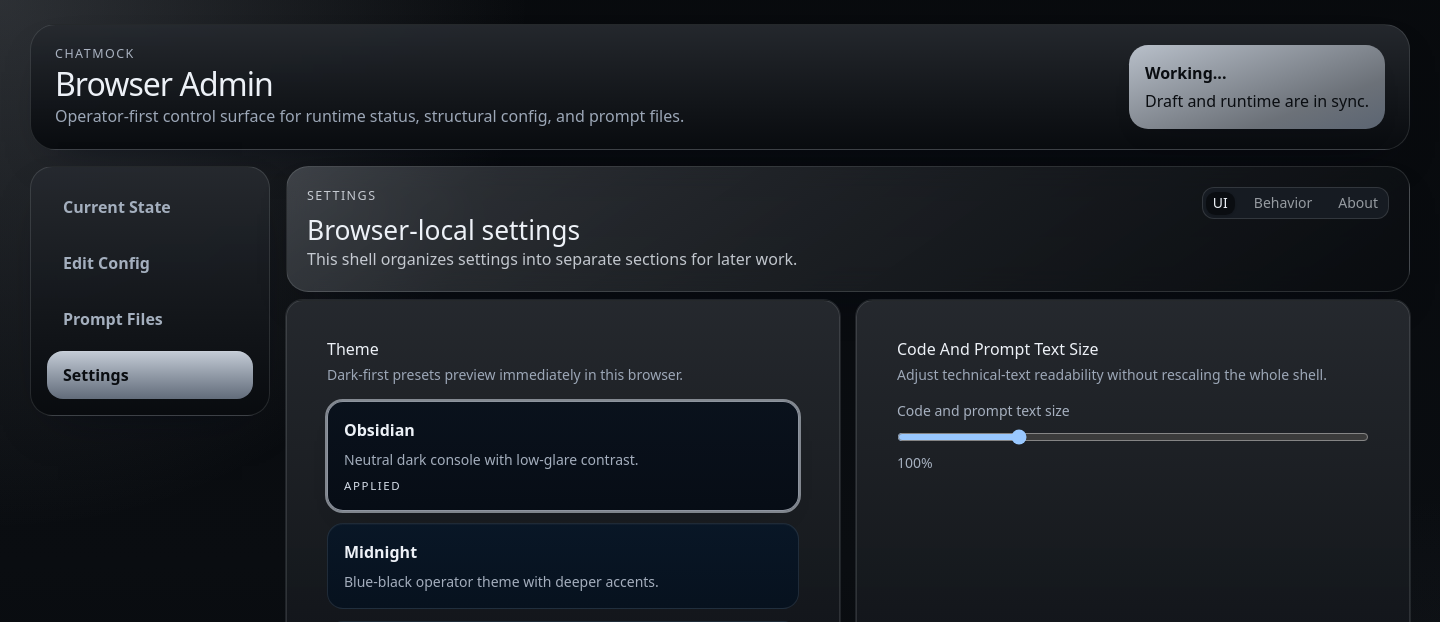
it: admin router › resets unapplied settings preview when leaving the settings route
Step 1. Click the button "Midnight" → click(381, 552), box [327,523,799,609]
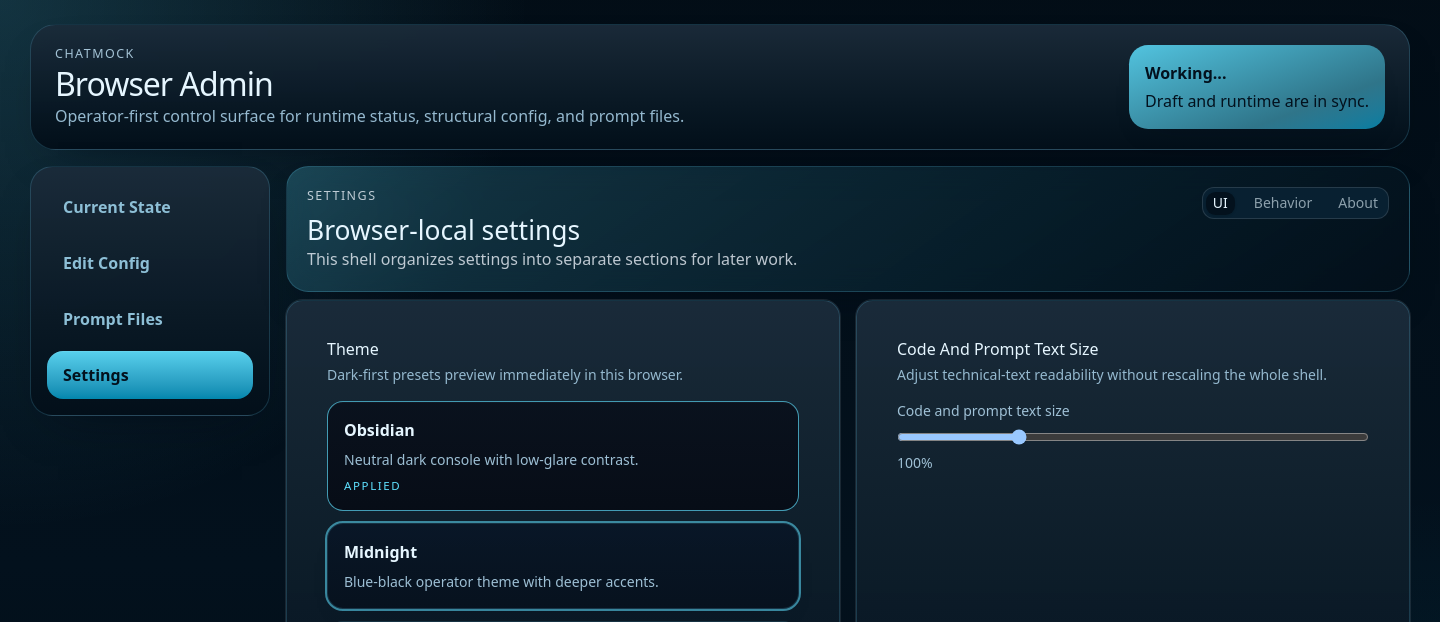
Step 2. Set the slider labelled "Code and prompt text size" to "120" → (1247, 437), box [897,429,1369,445]
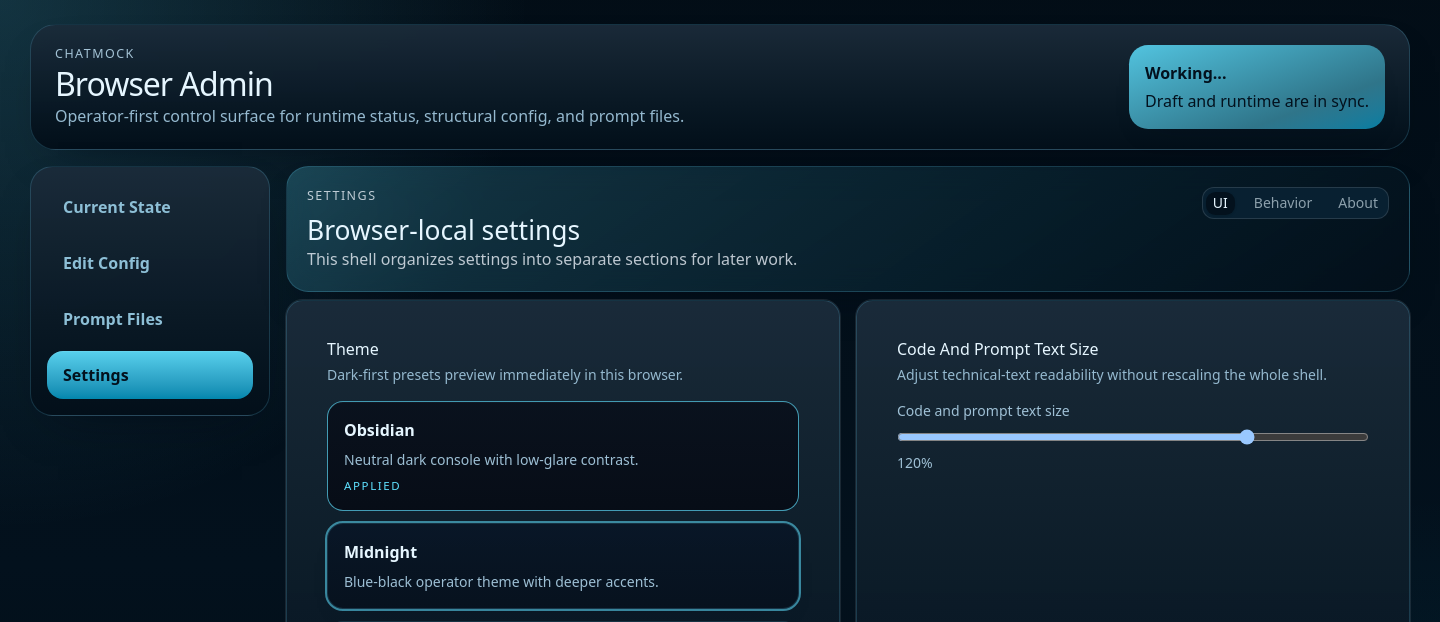
Step 3. Click the link "Current State" → click(117, 207), box [63,196,171,218]
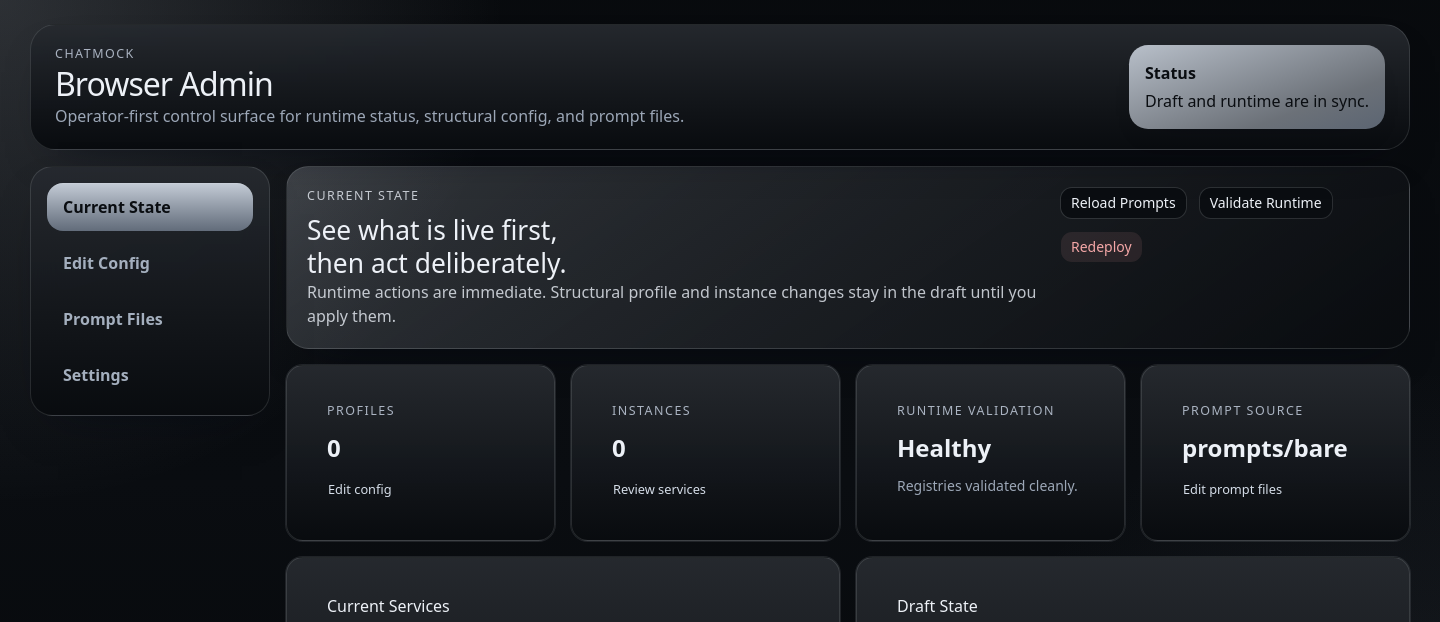
Check: the heading "See what is live first, then act deliberately." is shown, box [307,214,609,280]
